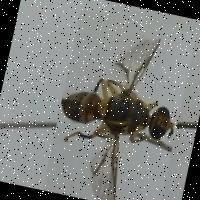Oriental-fruit-fly: (40, 8, 194, 200)
